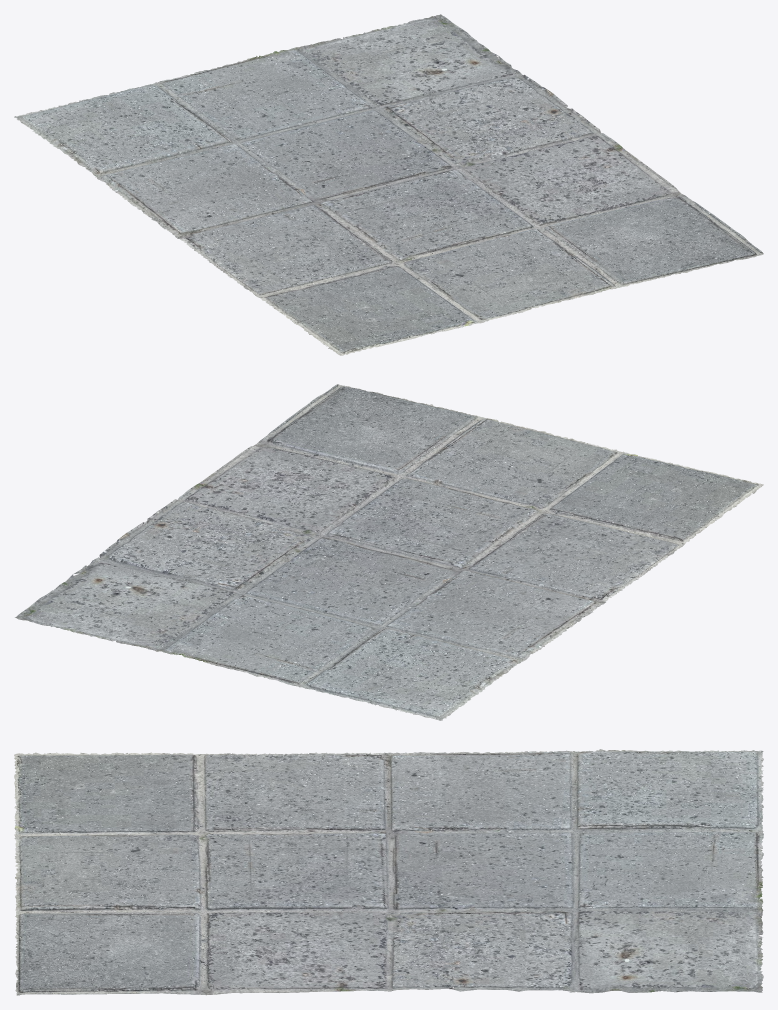
The model's file is ThreeLane.glb.
The picture shows the model from 3 angles, top to bottom: view 1: azimuth 30°, elevation 25°; view 2: azimuth 150°, elevation 25°; view 3: azimuth 270°, elevation 25°; orthographic projection. The views are drawn at different scales.
Parts seen in each view (by area): view 1: Object_2; view 2: Object_2; view 3: Object_2.
Part boxes in pixels (bbox=[...]): Object_2: bbox=[14, 14, 763, 355]; Object_2: bbox=[15, 384, 763, 720]; Object_2: bbox=[14, 749, 763, 995].
Bounding box in the file's own units: 17.59 × 0.2934 × 23.11.
Materials: 1 (1 with a texture image).
